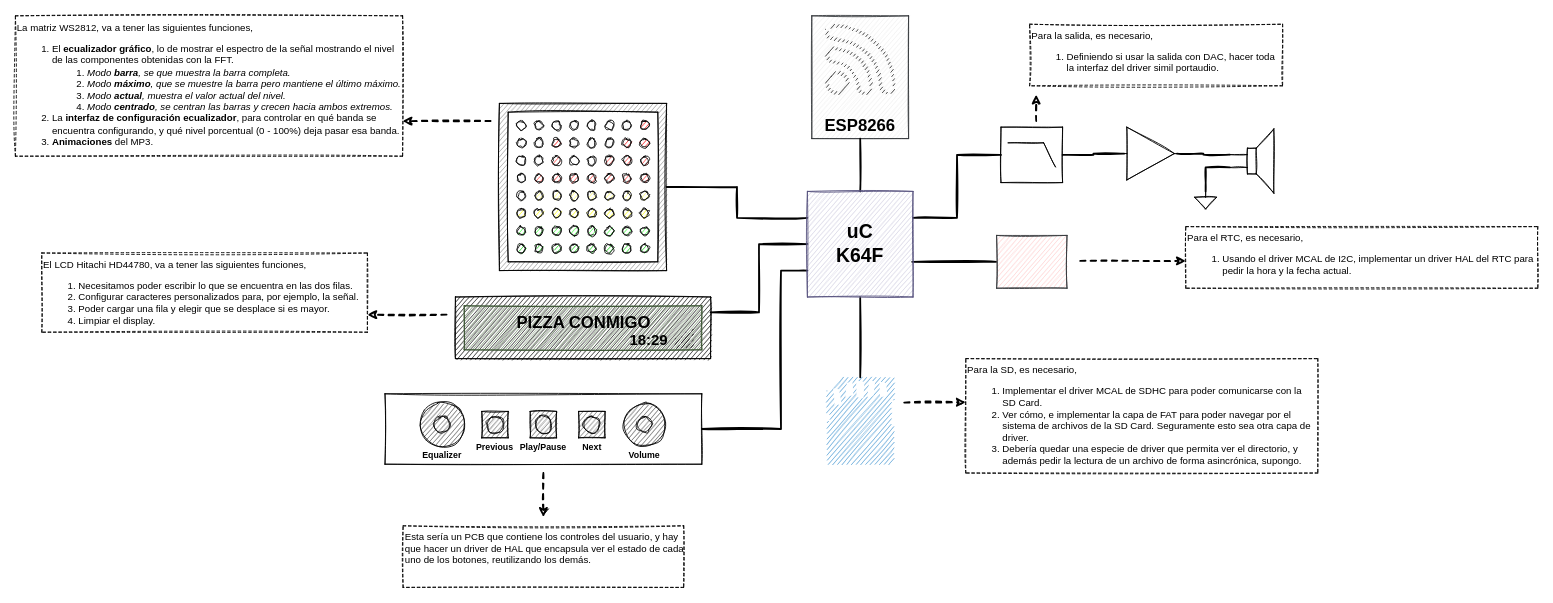
Image size: 1553x603. Some labels were removed from this diagram. The shapes that lost their labels are listed below. From the top down, each one's centre as x and y in pixels, then its label:
At [1031,261]: "RTC".
At [859,420]: "SD".
